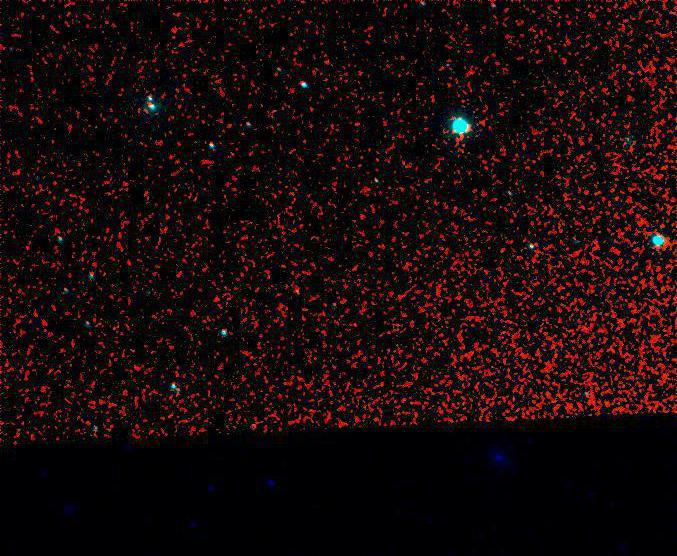star: (487, 239, 517, 269)
